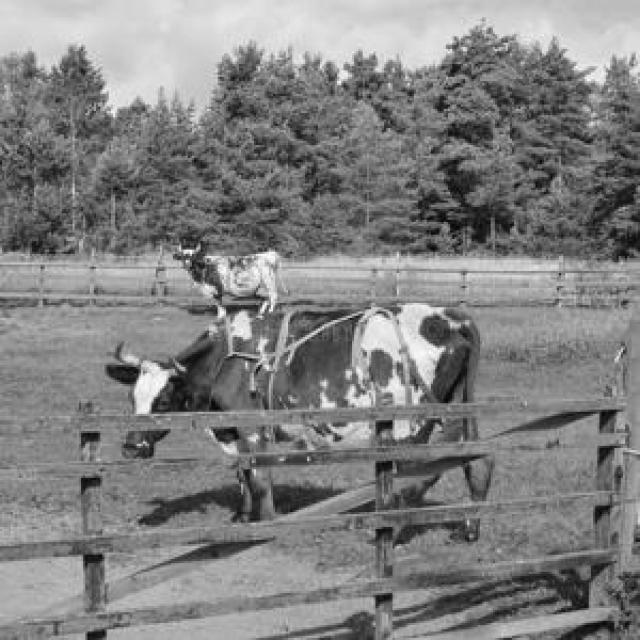cow: (106, 304, 480, 414), (395, 421, 478, 445), (236, 469, 274, 521), (301, 422, 374, 449), (462, 455, 494, 502), (210, 428, 270, 453), (124, 431, 168, 458), (400, 476, 435, 507), (459, 521, 479, 539)
